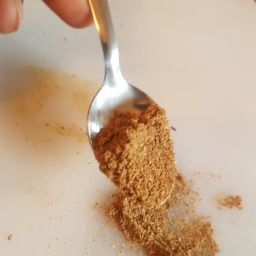Corriander powder: (84, 155, 246, 256), (77, 84, 199, 204)
